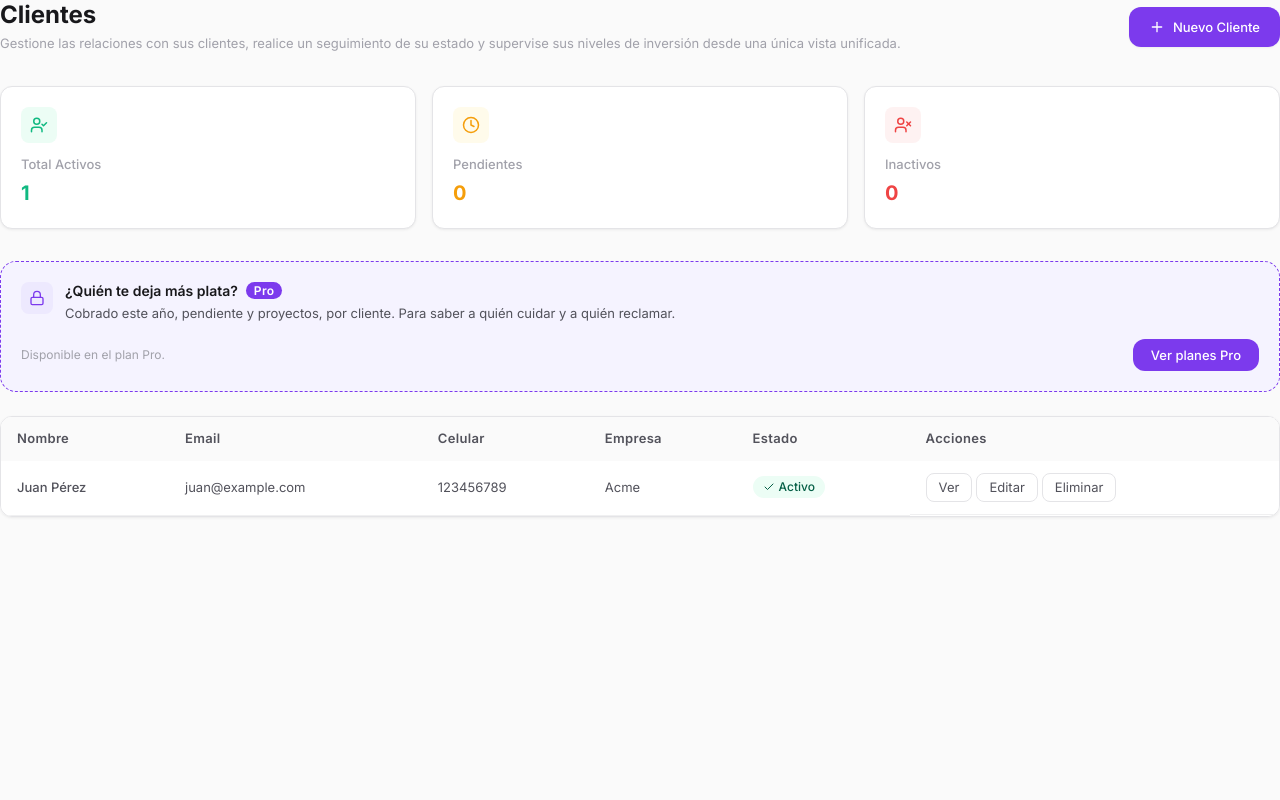
ClientsPage — delete confirmation › opens a confirm dialog (not window.confirm) when Eliminar is clicked, and does not delete until confirmed
Click the button "Eliminar" at (1079, 487), box [1042,472,1116,502]
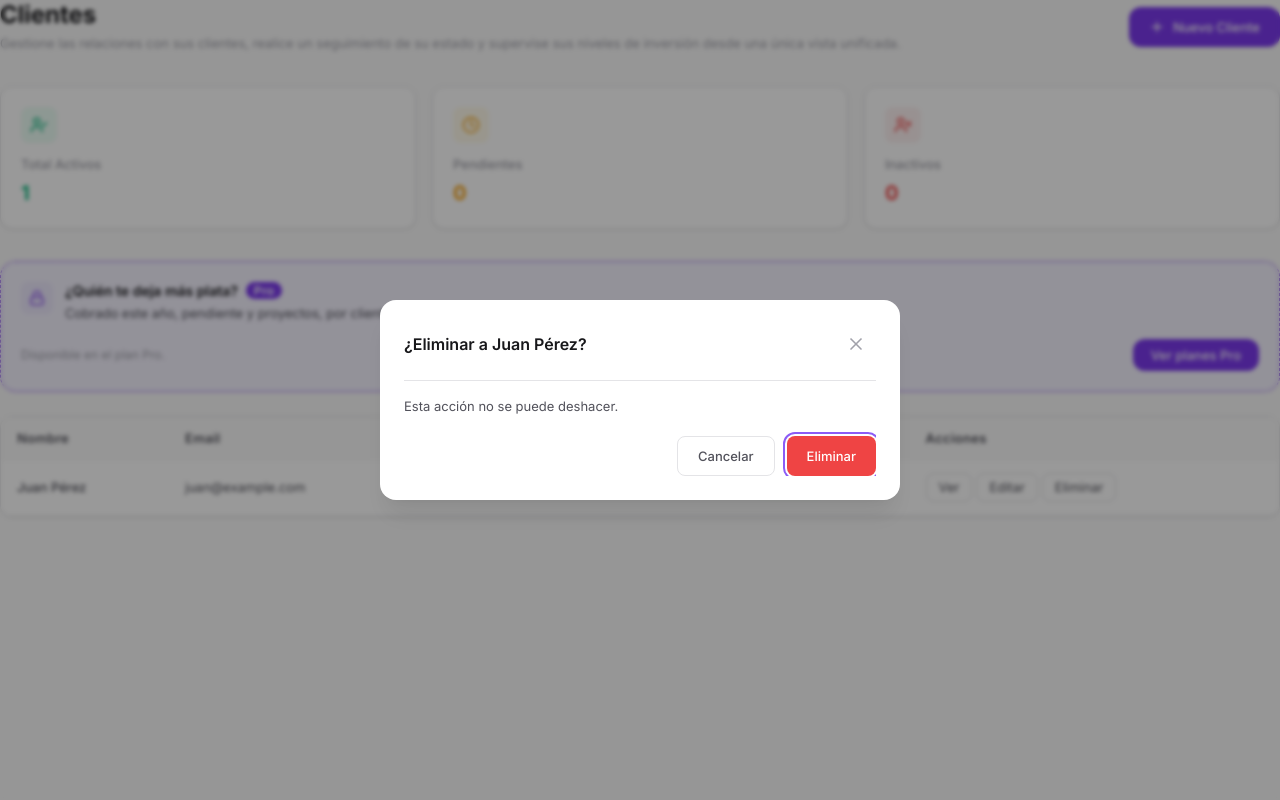
Expected: the dialog is shown, [380,300,900,500]
Expected: the heading "¿Eliminar a Juan Pérez?" is shown, [404,334,587,354]
